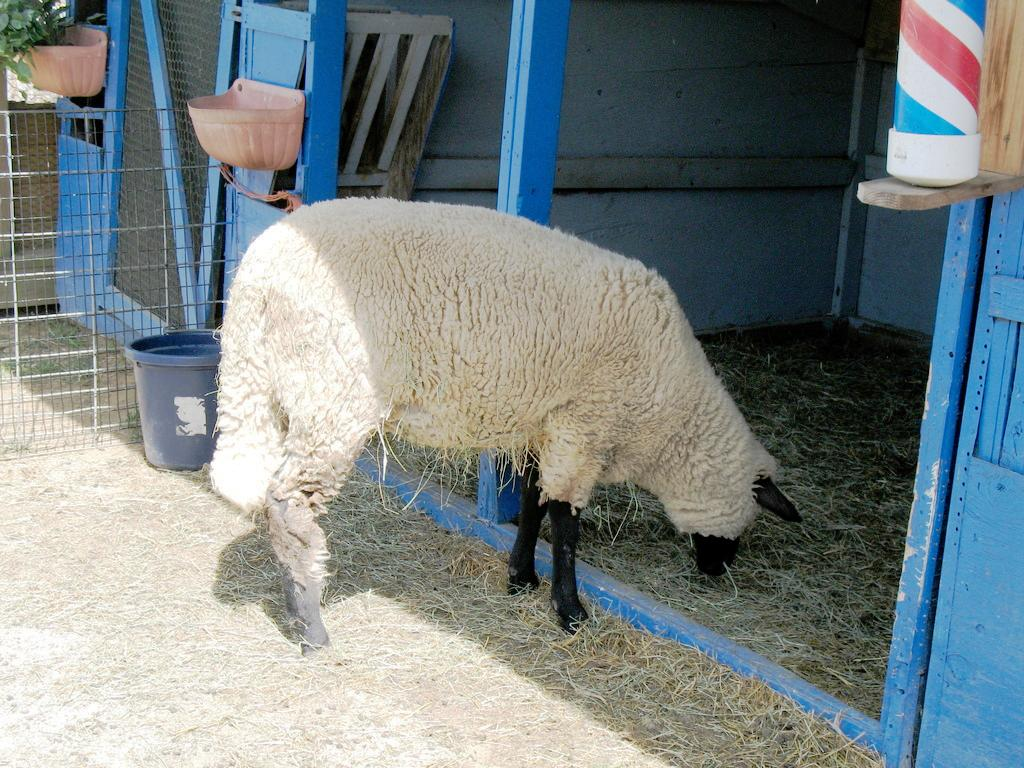Sheep: (199, 199, 801, 657)
